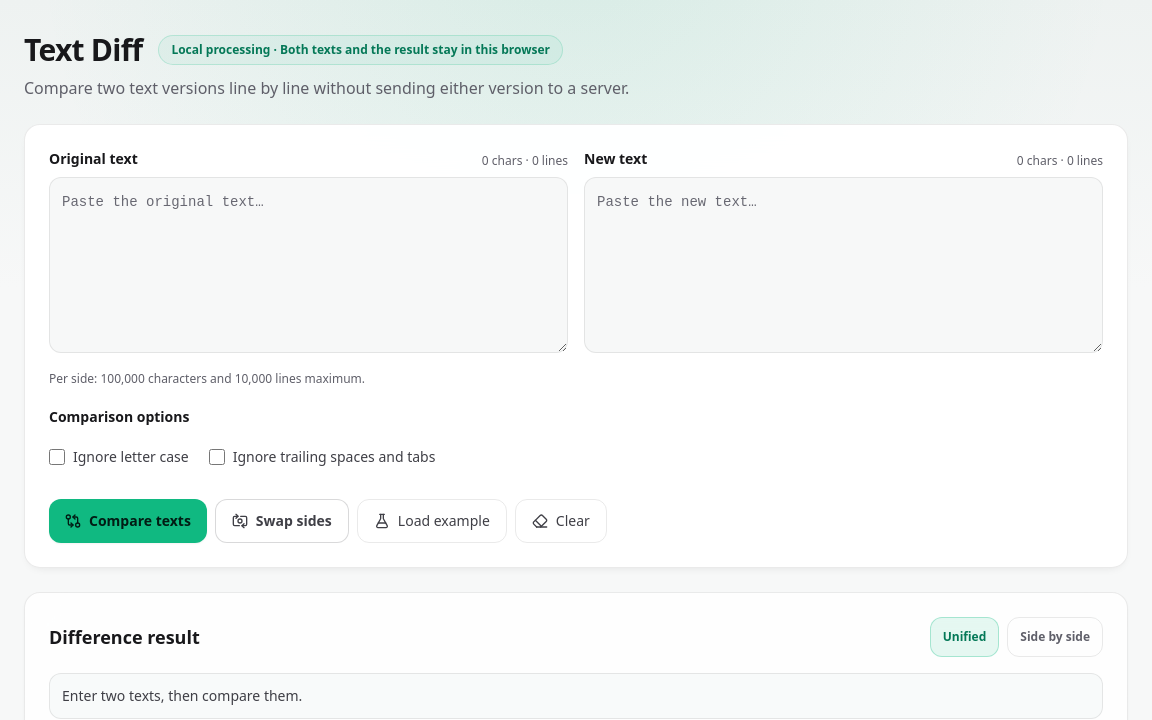
DiffClient › loads the example and renders a local line diff
Click the button "Load example" at (432, 521), box [357, 499, 507, 543]
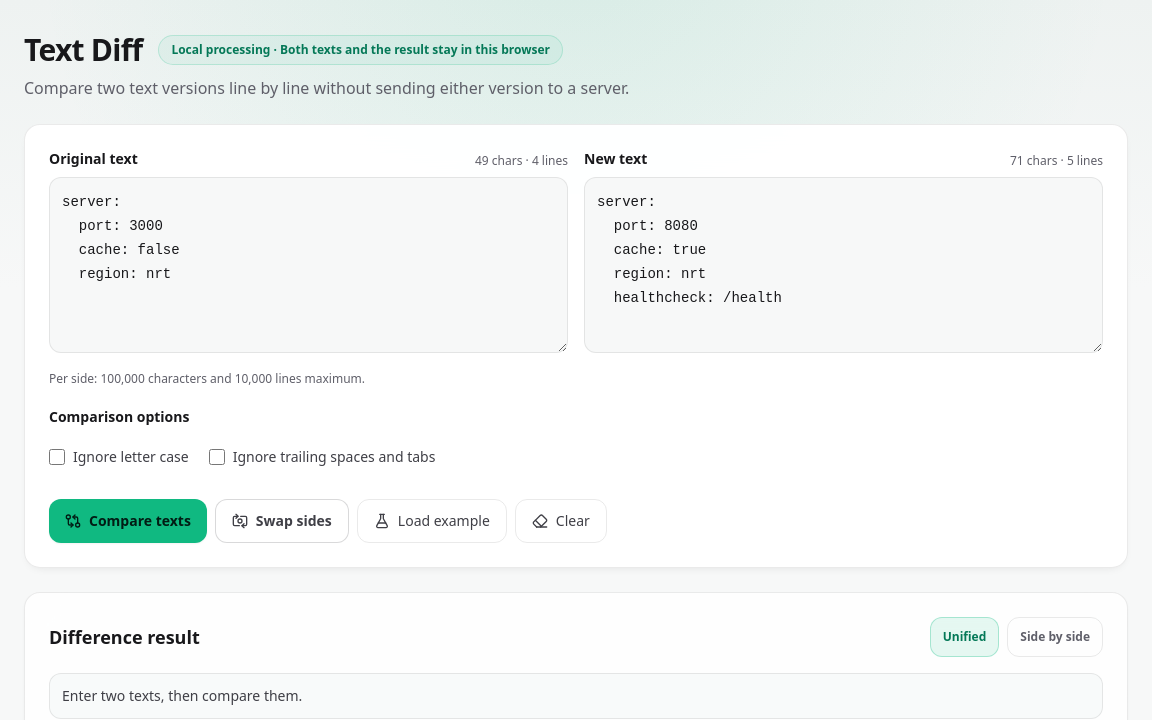
Click the button "Compare texts" at (128, 521), box [49, 499, 207, 543]
Wait 10 ms
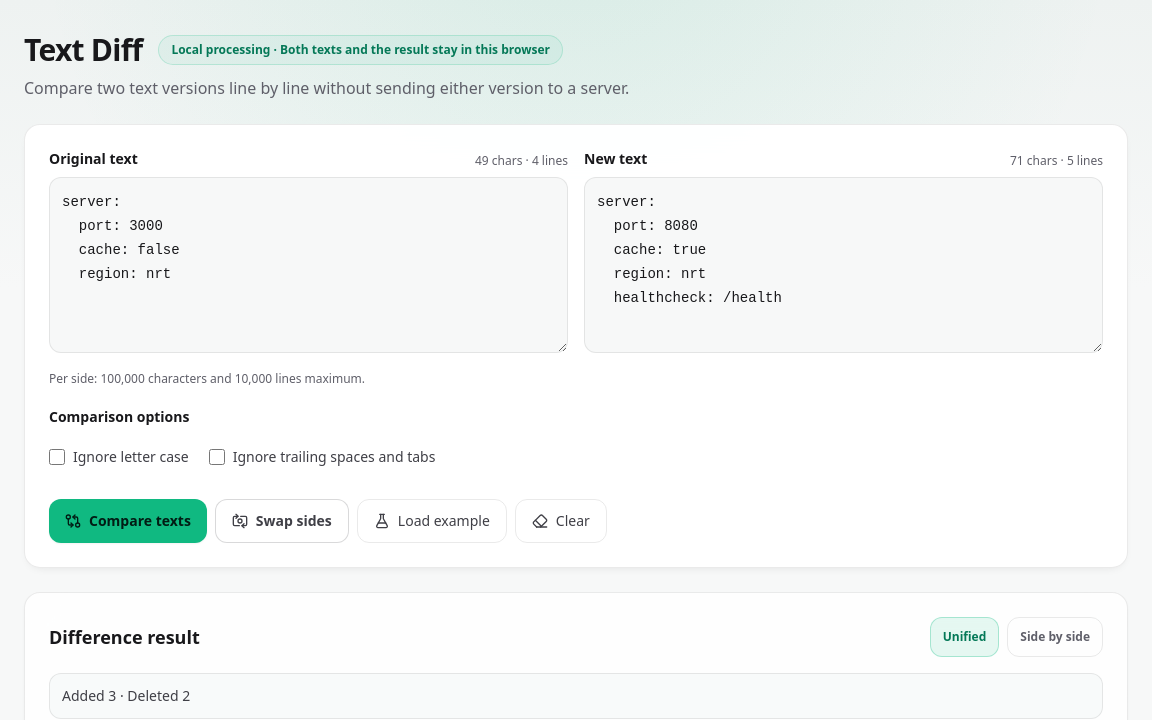
Check: the text "Added 3 · Deleted 2" is shown, box [49, 673, 1103, 719]
